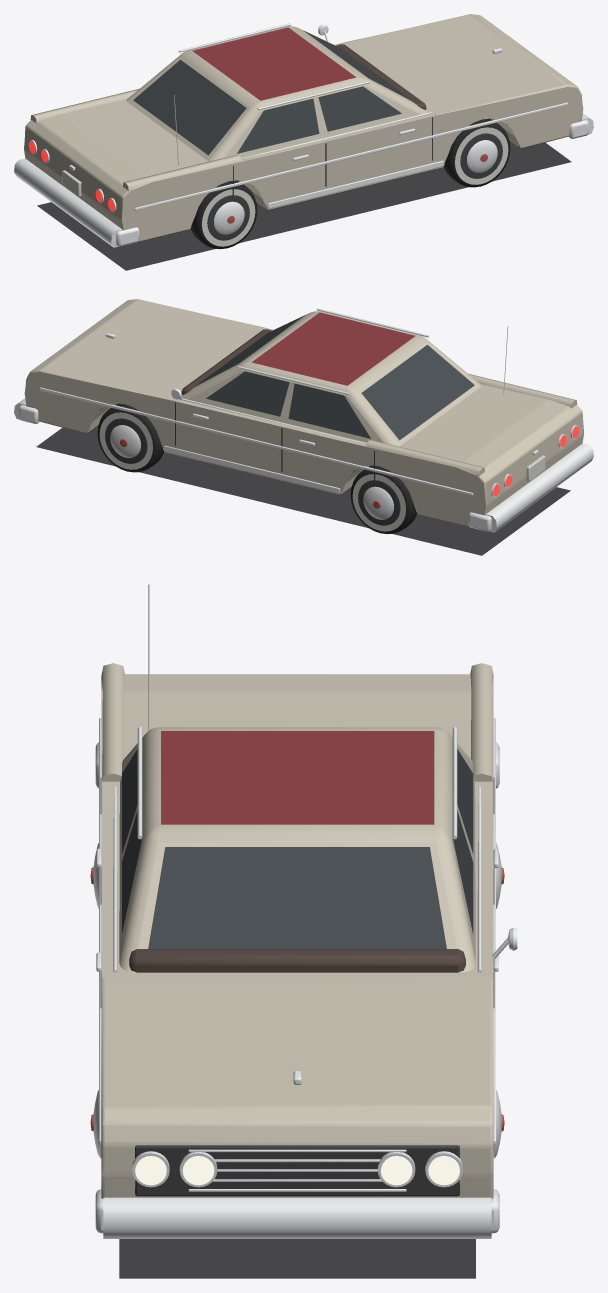
File: car_sedan_b.glb
The picture shows the model from 3 angles, top to bottom: view 1: azimuth 30°, elevation 25°; view 2: azimuth 150°, elevation 25°; view 3: azimuth 270°, elevation 25°; orthographic projection. The views are drawn at different scales.
Parts seen in each view (by area): view 1: car_sedan_b; view 2: car_sedan_b; view 3: car_sedan_b.
Boxes of the visible parts, bbox=[...] form: car_sedan_b: bbox=[14, 14, 593, 270]; car_sedan_b: bbox=[14, 299, 593, 555]; car_sedan_b: bbox=[90, 584, 517, 1278].
Size of the model in its own units: 5.63 by 1.75 by 2.15.
